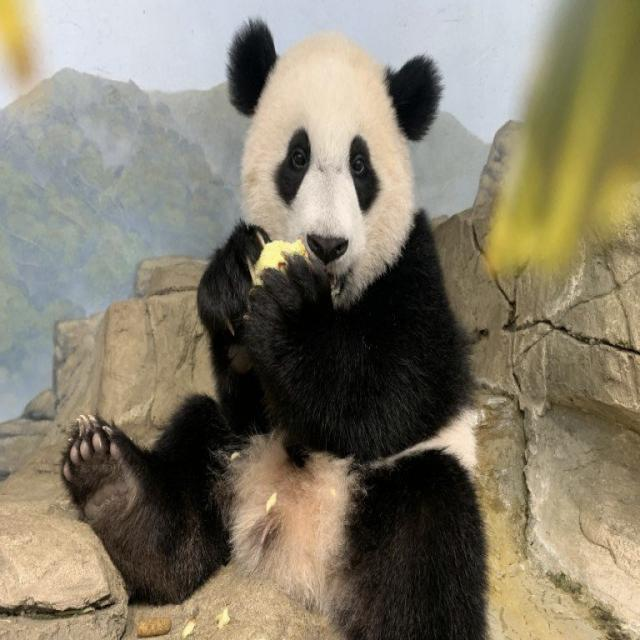panda: (61, 21, 487, 639)
